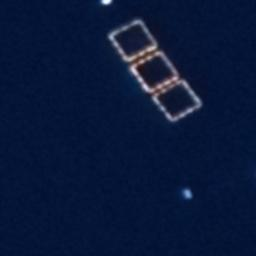square_solid: (125, 47, 185, 96), (152, 76, 210, 126), (104, 16, 164, 64)
